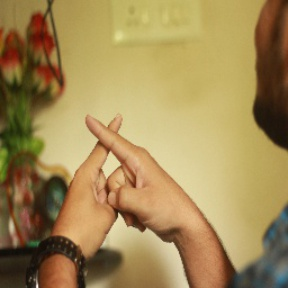X: (57, 104, 166, 206)
